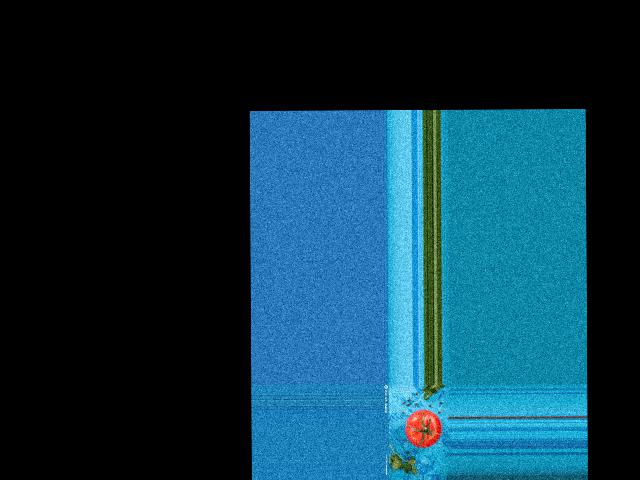tomato: (404, 409, 441, 448)
